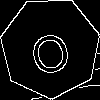O: (25, 22, 74, 77)
